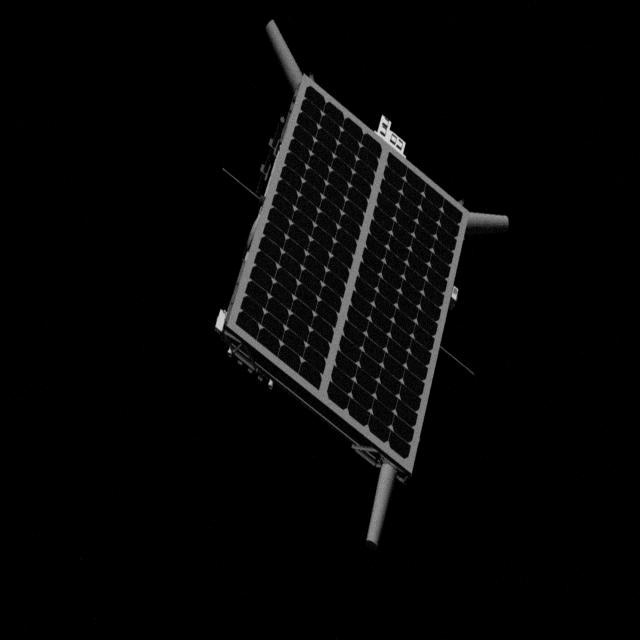satellite: (208, 18, 522, 550)
